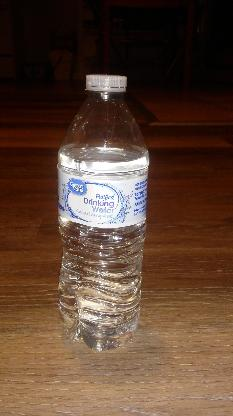Plastic Bottle: (50, 61, 164, 360)
